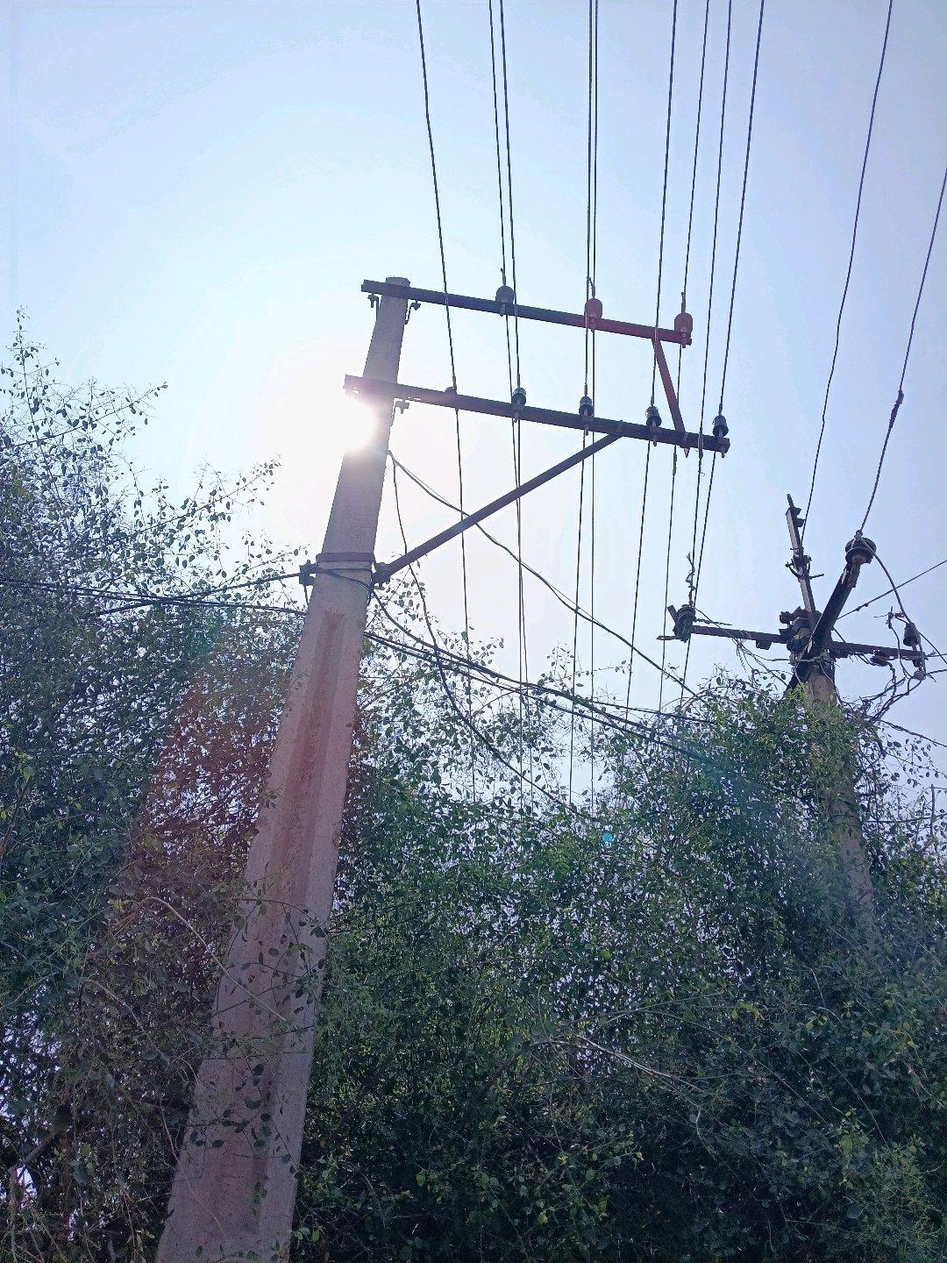{"0" "insulator", "1" "pole", "2" "crossarm", "3" "conductor", "4" "street_: (158, 278, 727, 1262), (672, 504, 927, 999), (488, 514, 491, 516), (519, 495, 521, 496)
